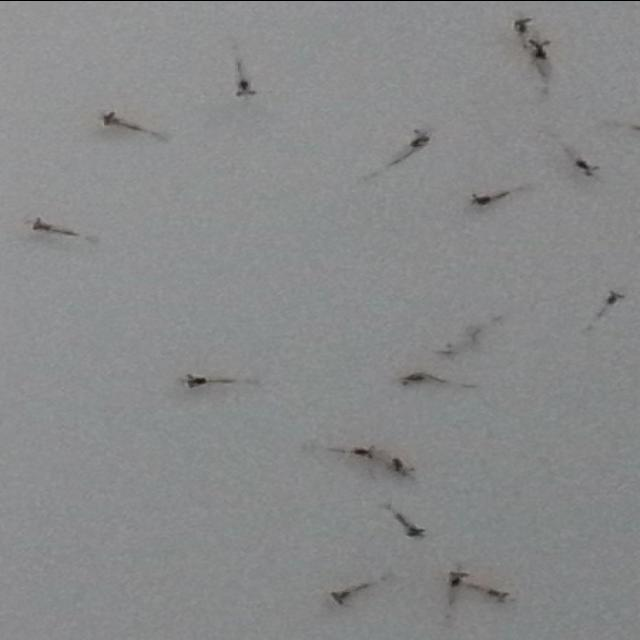shrimp-seed: (98, 106, 142, 136), (28, 215, 74, 241), (390, 511, 427, 539), (397, 367, 441, 389), (326, 582, 370, 604), (384, 455, 418, 483), (230, 74, 261, 100), (402, 126, 434, 151), (470, 188, 508, 208), (567, 157, 601, 179), (346, 444, 380, 464), (432, 337, 461, 359), (484, 582, 512, 604), (180, 371, 210, 391), (444, 568, 468, 592), (601, 288, 627, 310), (510, 13, 532, 38), (530, 38, 552, 61)
